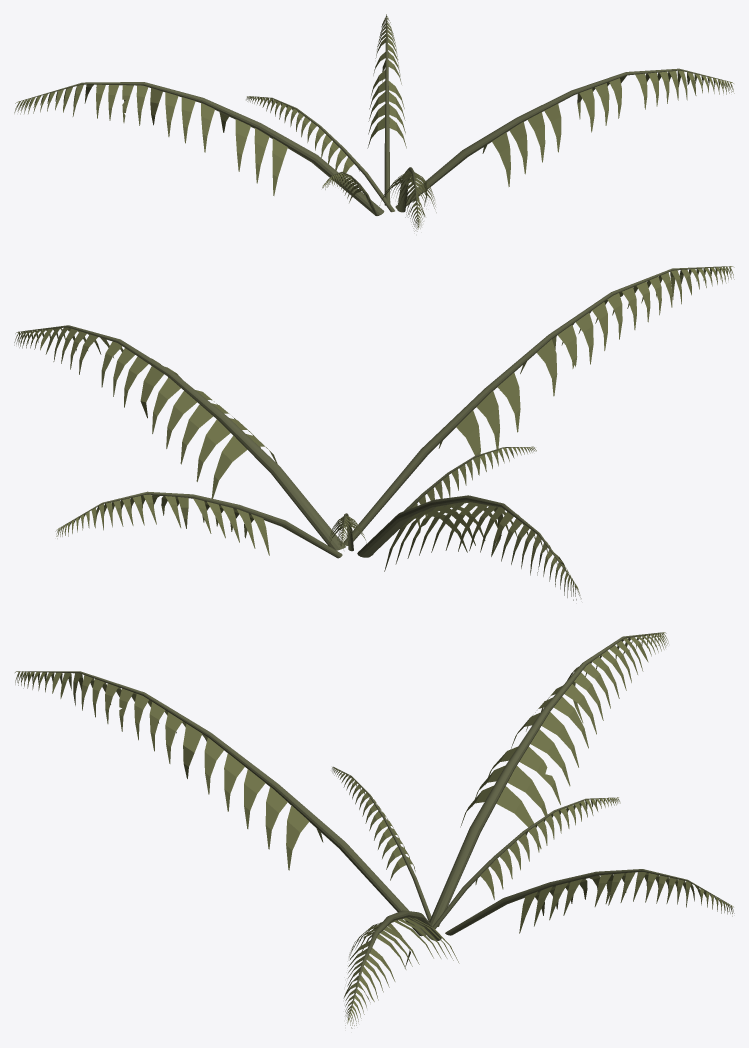
The model's file is WiltedFernBush.fbx.
3 renders of one model, top to bottom at view 1: azimuth 30°, elevation 25°; view 2: azimuth 150°, elevation 25°; view 3: azimuth 270°, elevation 25°, orthographic. The views are drawn at different scales.
Parts seen in each view (by area): view 1: leaves, fernStems; view 2: leaves, fernStems; view 3: leaves, fernStems.
Boxes of the visible parts, box(x1,y1,x2,y2) form: leaves: box(14, 14, 734, 231); fernStems: box(20, 15, 730, 224); leaves: box(14, 266, 734, 600); fernStems: box(18, 266, 730, 584); leaves: box(15, 632, 734, 1028); fernStems: box(18, 632, 731, 1017).
Bounding box in the file's own units: 33.77 × 8.48 × 29.
